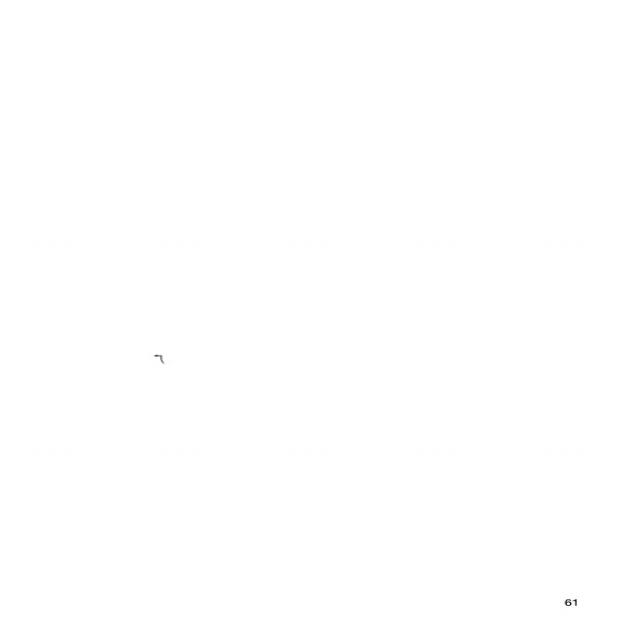6 -six-: (152, 352, 168, 367)
